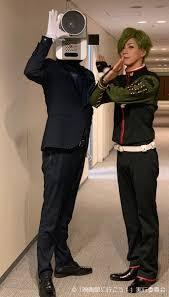no more kid: (48, 5, 94, 66)
